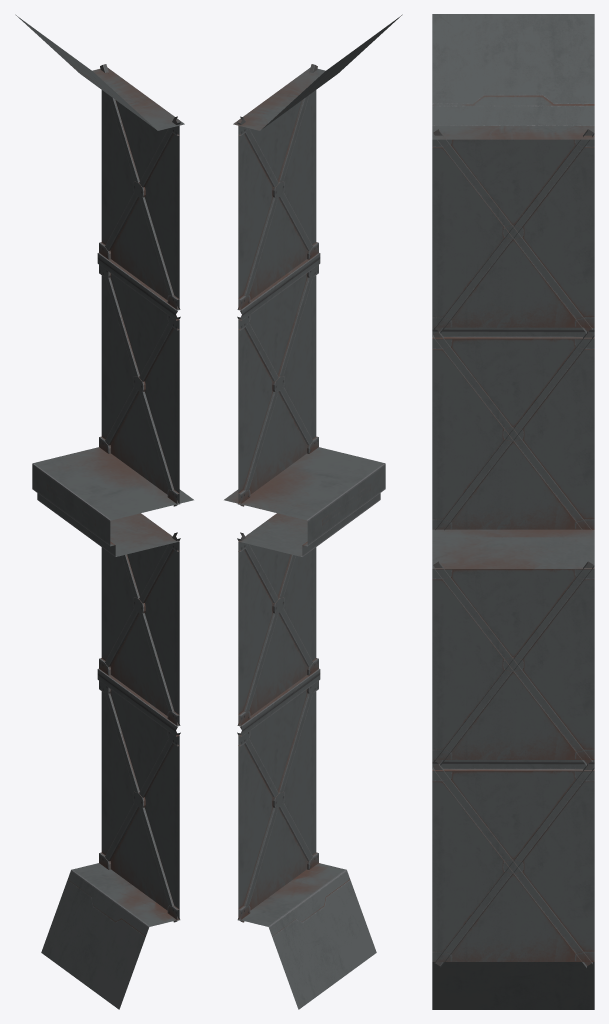
File: BgMD_Wall01.fbx
3 renders of one model, left to right at view 1: azimuth 30°, elevation 25°; view 2: azimuth 150°, elevation 25°; view 3: azimuth 270°, elevation 25°, orthographic. The views are drawn at different scales.
Visible parts, largest first — view 1: wall; view 2: wall; view 3: wall.
Part boxes in pixels (x1,y1,x2,y2): wall: (15,14,193,1009); wall: (224,14,402,1009); wall: (432,14,594,1009).
Bounding box in the file's own units: 141 × 1250 × 188.
